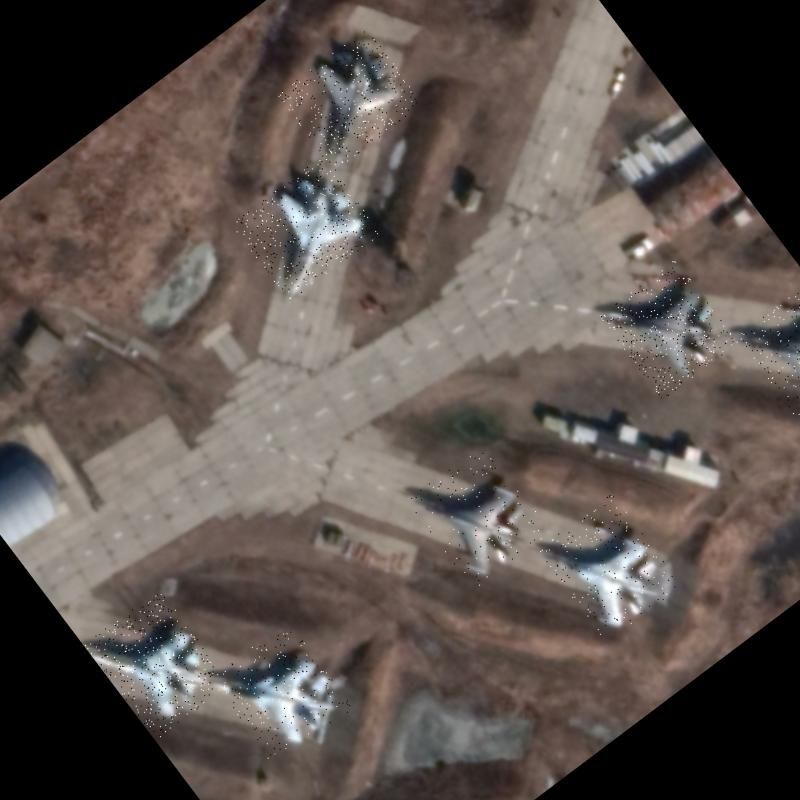A1: (85, 588, 232, 740), (231, 155, 382, 302), (537, 492, 683, 644), (407, 442, 552, 590), (278, 27, 424, 171), (600, 259, 739, 400), (735, 280, 800, 422)
A19: (209, 620, 354, 767)
